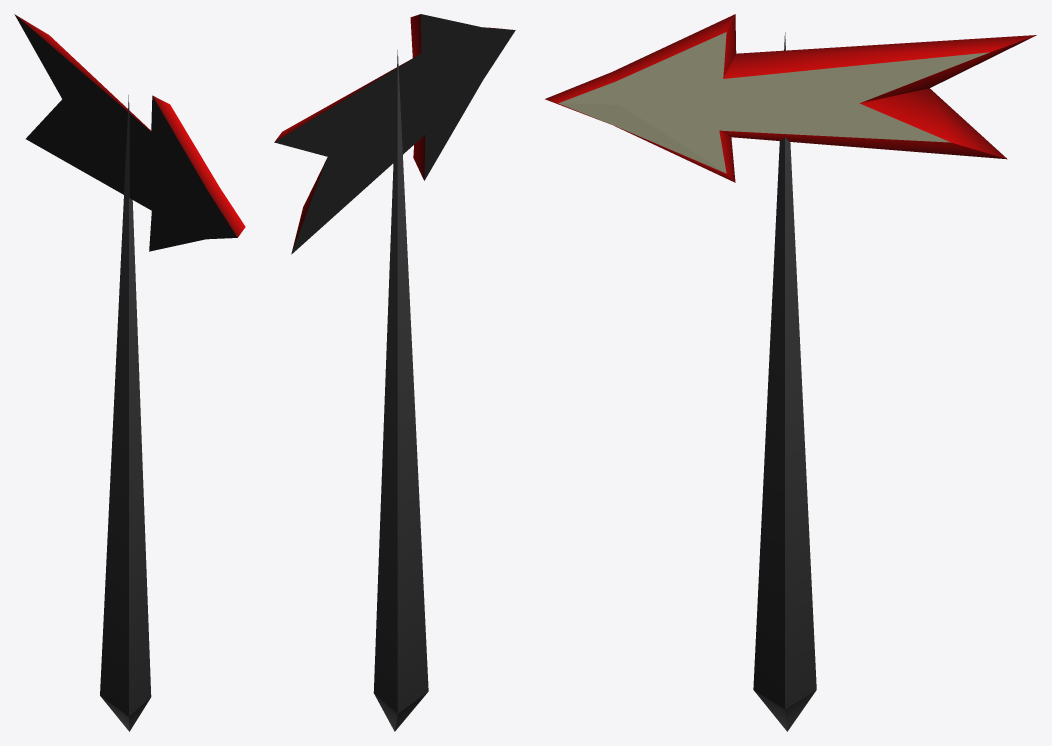
Rendered from c_street_sign_ac.fbx.
3 renders of one model, left to right at view 1: azimuth 30°, elevation 25°; view 2: azimuth 150°, elevation 25°; view 3: azimuth 270°, elevation 25°, orthographic. The views are drawn at different scales.
Visible parts, largest first — view 1: c_street_sign_ac; view 2: c_street_sign_ac; view 3: c_street_sign_ac.
Part boxes in pixels (left/top/right/bottom): c_street_sign_ac: left=14, top=14, right=245, bottom=731; c_street_sign_ac: left=274, top=14, right=515, bottom=731; c_street_sign_ac: left=545, top=14, right=1036, bottom=731.
Size of the model in its own units: 0.1864 by 3.16 by 1.97.
